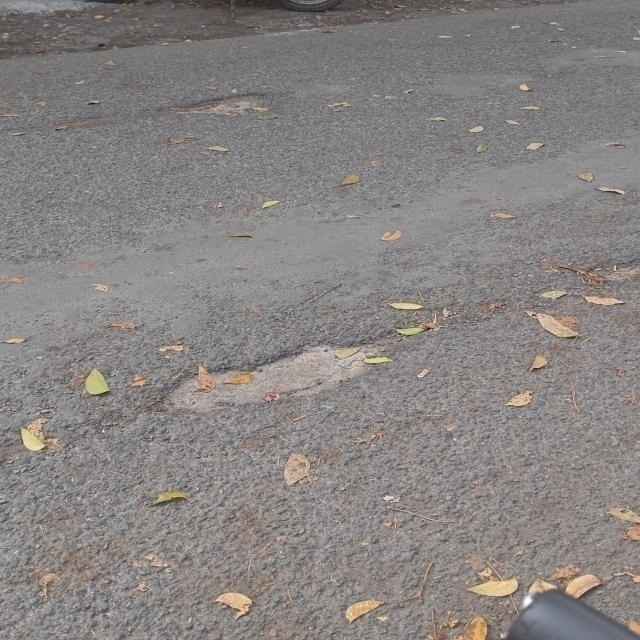pothole: (118, 320, 456, 424)
